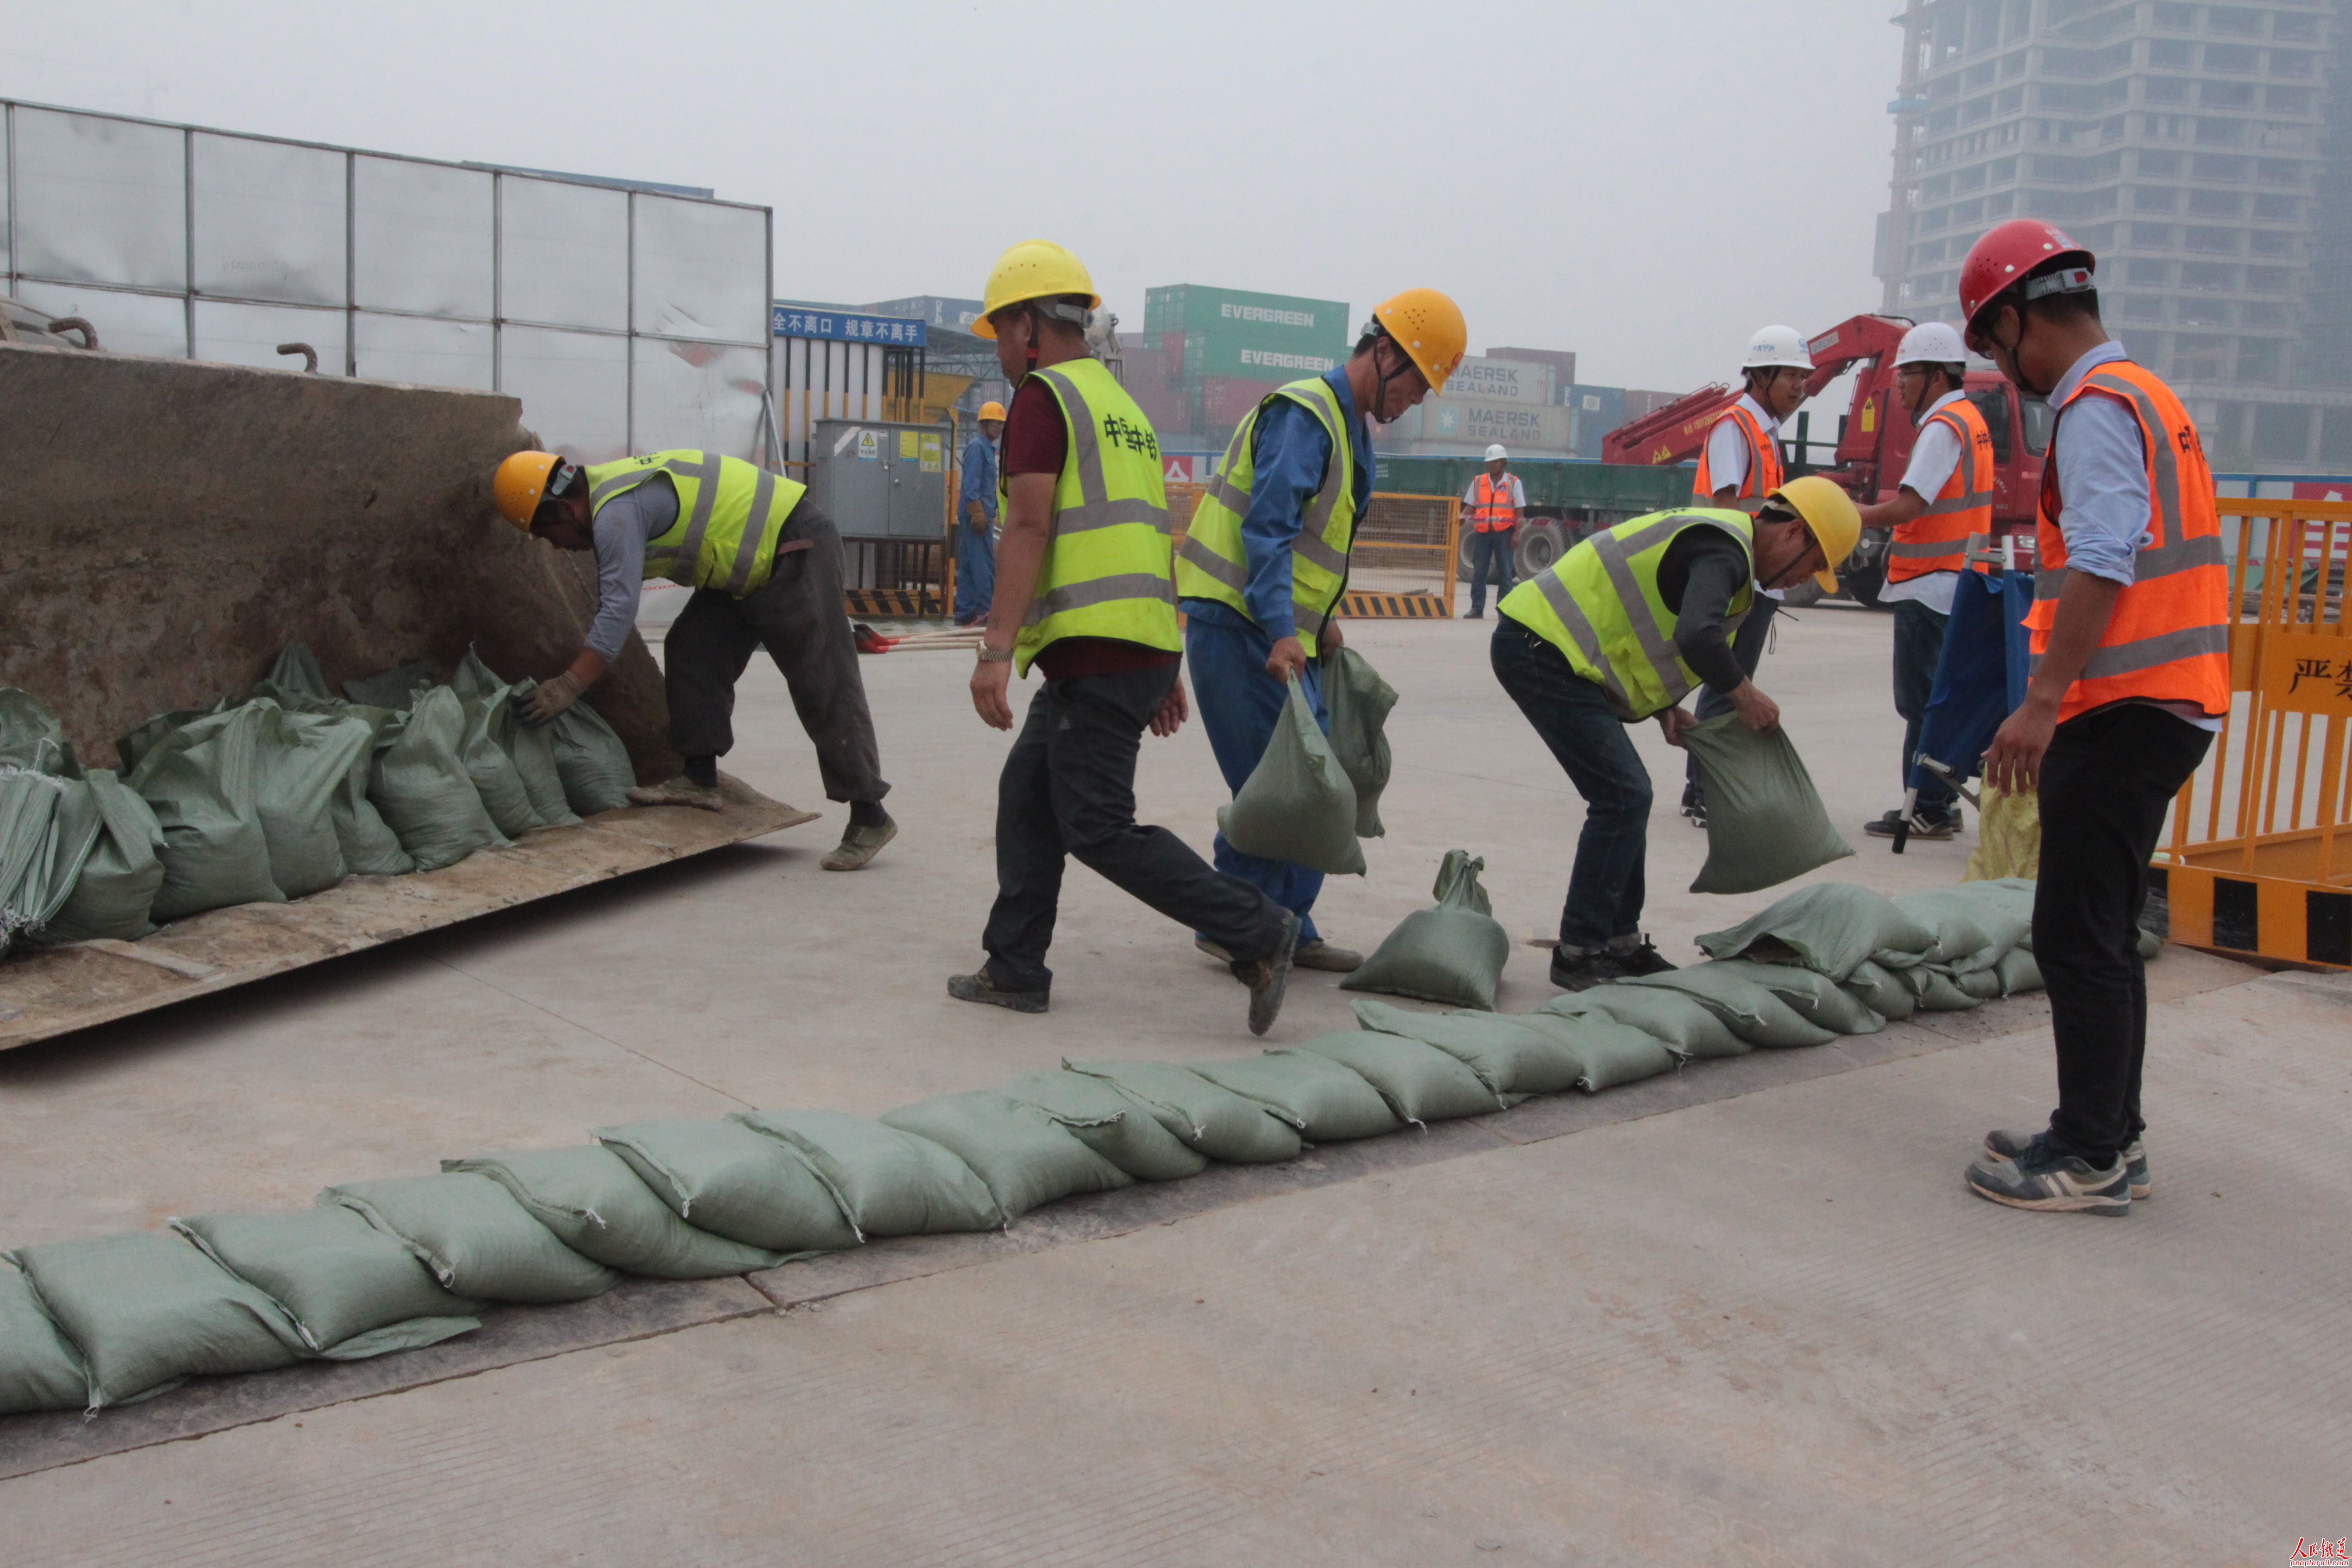safetyhat: (1934, 166, 2259, 1253), (943, 224, 1237, 1019), (464, 406, 908, 851), (1547, 458, 1911, 950), (1218, 191, 1486, 707)
